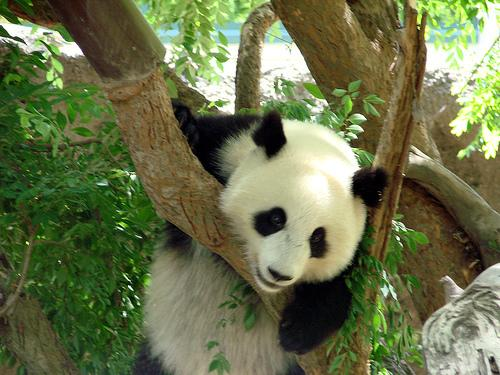panda: (134, 101, 387, 373)
